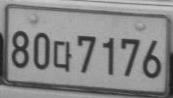0: (32, 31, 51, 69)
1: (99, 36, 119, 75)
6: (141, 40, 162, 78)
7: (76, 35, 97, 74), (120, 38, 140, 76)
8: (11, 29, 29, 68)
다: (53, 40, 72, 71)
